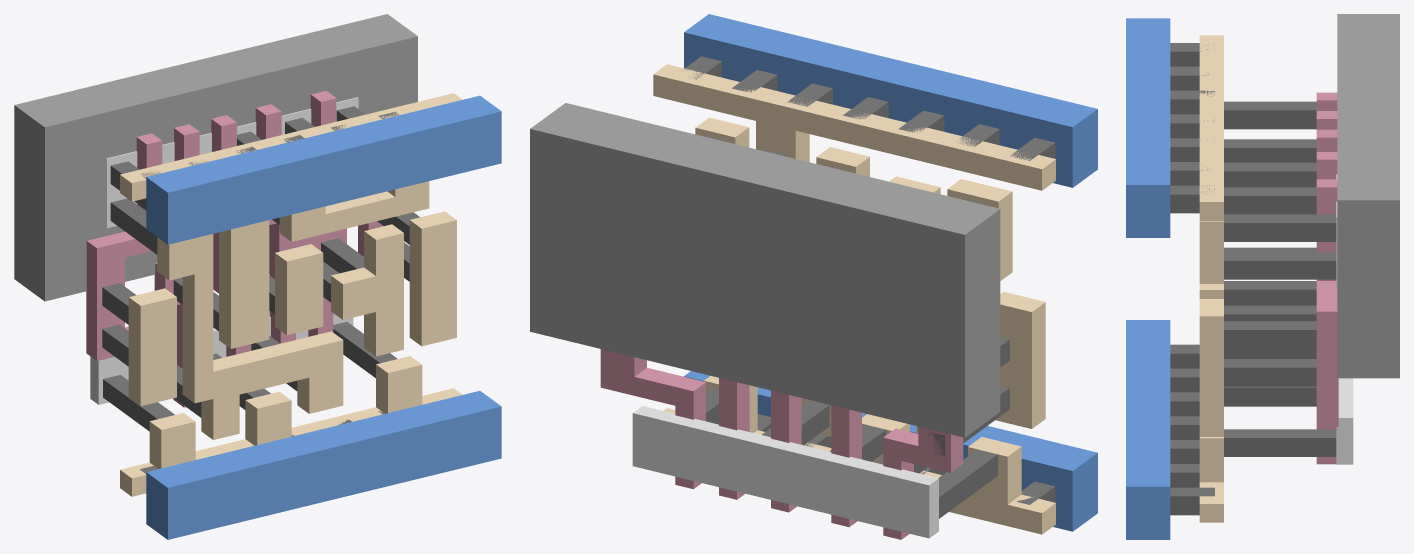
File: sky130_fd_sc_hd__a2111oi_0.gds.gltf
3 renders of one model, left to right at view 1: azimuth 30°, elevation 25°; view 2: azimuth 150°, elevation 25°; view 3: azimuth 270°, elevation 25°, orthographic. The views are drawn at different scales.
Parts seen in each view (by area): view 1: sky130_fd_sc_hd__a2111oi_0_li1, sky130_fd_sc_hd__a2111oi_0_met1, sky130_fd_sc_hd__a2111oi_0_nwell, sky130_fd_sc_hd__a2111oi_0_poly, sky130_fd_sc_hd__a2111oi_0_licon, sky130_fd_sc_hd__a2111oi_0_diff; view 2: sky130_fd_sc_hd__a2111oi_0_nwell, sky130_fd_sc_hd__a2111oi_0_li1, sky130_fd_sc_hd__a2111oi_0_met1, sky130_fd_sc_hd__a2111oi_0_diff, sky130_fd_sc_hd__a2111oi_0_poly, sky130_fd_sc_hd__a2111oi_0_mcon, sky130_fd_sc_hd__a2111oi_0_licon; view 3: sky130_fd_sc_hd__a2111oi_0_licon, sky130_fd_sc_hd__a2111oi_0_nwell, sky130_fd_sc_hd__a2111oi_0_met1, sky130_fd_sc_hd__a2111oi_0_li1, sky130_fd_sc_hd__a2111oi_0_mcon, sky130_fd_sc_hd__a2111oi_0_poly, sky130_fd_sc_hd__a2111oi_0_diff.
Boxes of the visible parts, bbox=[...] form: sky130_fd_sc_hd__a2111oi_0_li1: bbox=[120, 93, 462, 496]; sky130_fd_sc_hd__a2111oi_0_met1: bbox=[146, 95, 501, 539]; sky130_fd_sc_hd__a2111oi_0_nwell: bbox=[14, 14, 417, 301]; sky130_fd_sc_hd__a2111oi_0_poly: bbox=[86, 91, 383, 407]; sky130_fd_sc_hd__a2111oi_0_licon: bbox=[102, 106, 419, 431]; sky130_fd_sc_hd__a2111oi_0_diff: bbox=[90, 97, 358, 404]; sky130_fd_sc_hd__a2111oi_0_nwell: bbox=[530, 103, 1000, 437]; sky130_fd_sc_hd__a2111oi_0_li1: bbox=[653, 64, 1055, 534]; sky130_fd_sc_hd__a2111oi_0_met1: bbox=[684, 14, 1097, 531]; sky130_fd_sc_hd__a2111oi_0_diff: bbox=[632, 406, 938, 538]; sky130_fd_sc_hd__a2111oi_0_poly: bbox=[600, 349, 963, 539]; sky130_fd_sc_hd__a2111oi_0_mcon: bbox=[683, 56, 1055, 504]; sky130_fd_sc_hd__a2111oi_0_licon: bbox=[705, 136, 1009, 518]; sky130_fd_sc_hd__a2111oi_0_licon: bbox=[1224, 101, 1336, 456]; sky130_fd_sc_hd__a2111oi_0_nwell: bbox=[1337, 14, 1399, 378]; sky130_fd_sc_hd__a2111oi_0_met1: bbox=[1126, 18, 1170, 539]; sky130_fd_sc_hd__a2111oi_0_li1: bbox=[1199, 35, 1223, 522]; sky130_fd_sc_hd__a2111oi_0_mcon: bbox=[1170, 43, 1214, 515]; sky130_fd_sc_hd__a2111oi_0_poly: bbox=[1316, 92, 1338, 464]; sky130_fd_sc_hd__a2111oi_0_diff: bbox=[1336, 91, 1353, 464].
Bounding box in the file's own units: 3.6 × 3.2 × 2.24.
